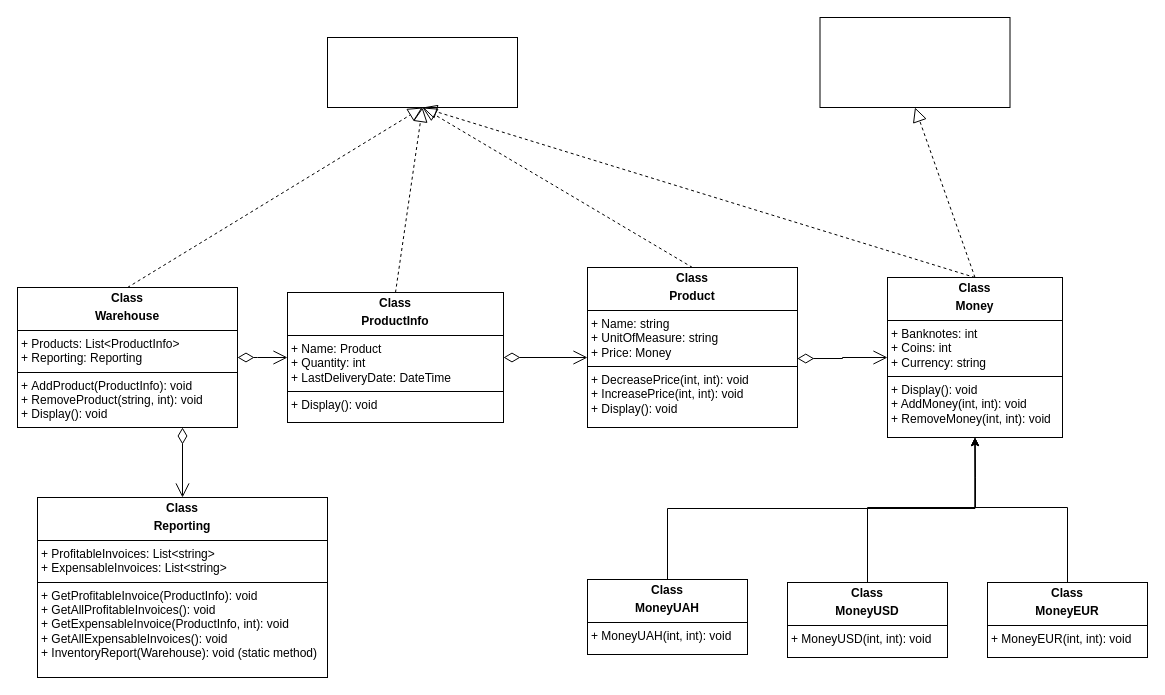
Some shapes in this 1165 by 695 pixel diagram are drawn without their labels. The centre of each missing label's shape, as x and y in pixels:
<<Interface>> IDisplay + Display(): void: point (422, 72)
<<Interface>> IMoney + AddMoney(int, int): void + RemoveMoney(int, int): void: point (914, 62)
